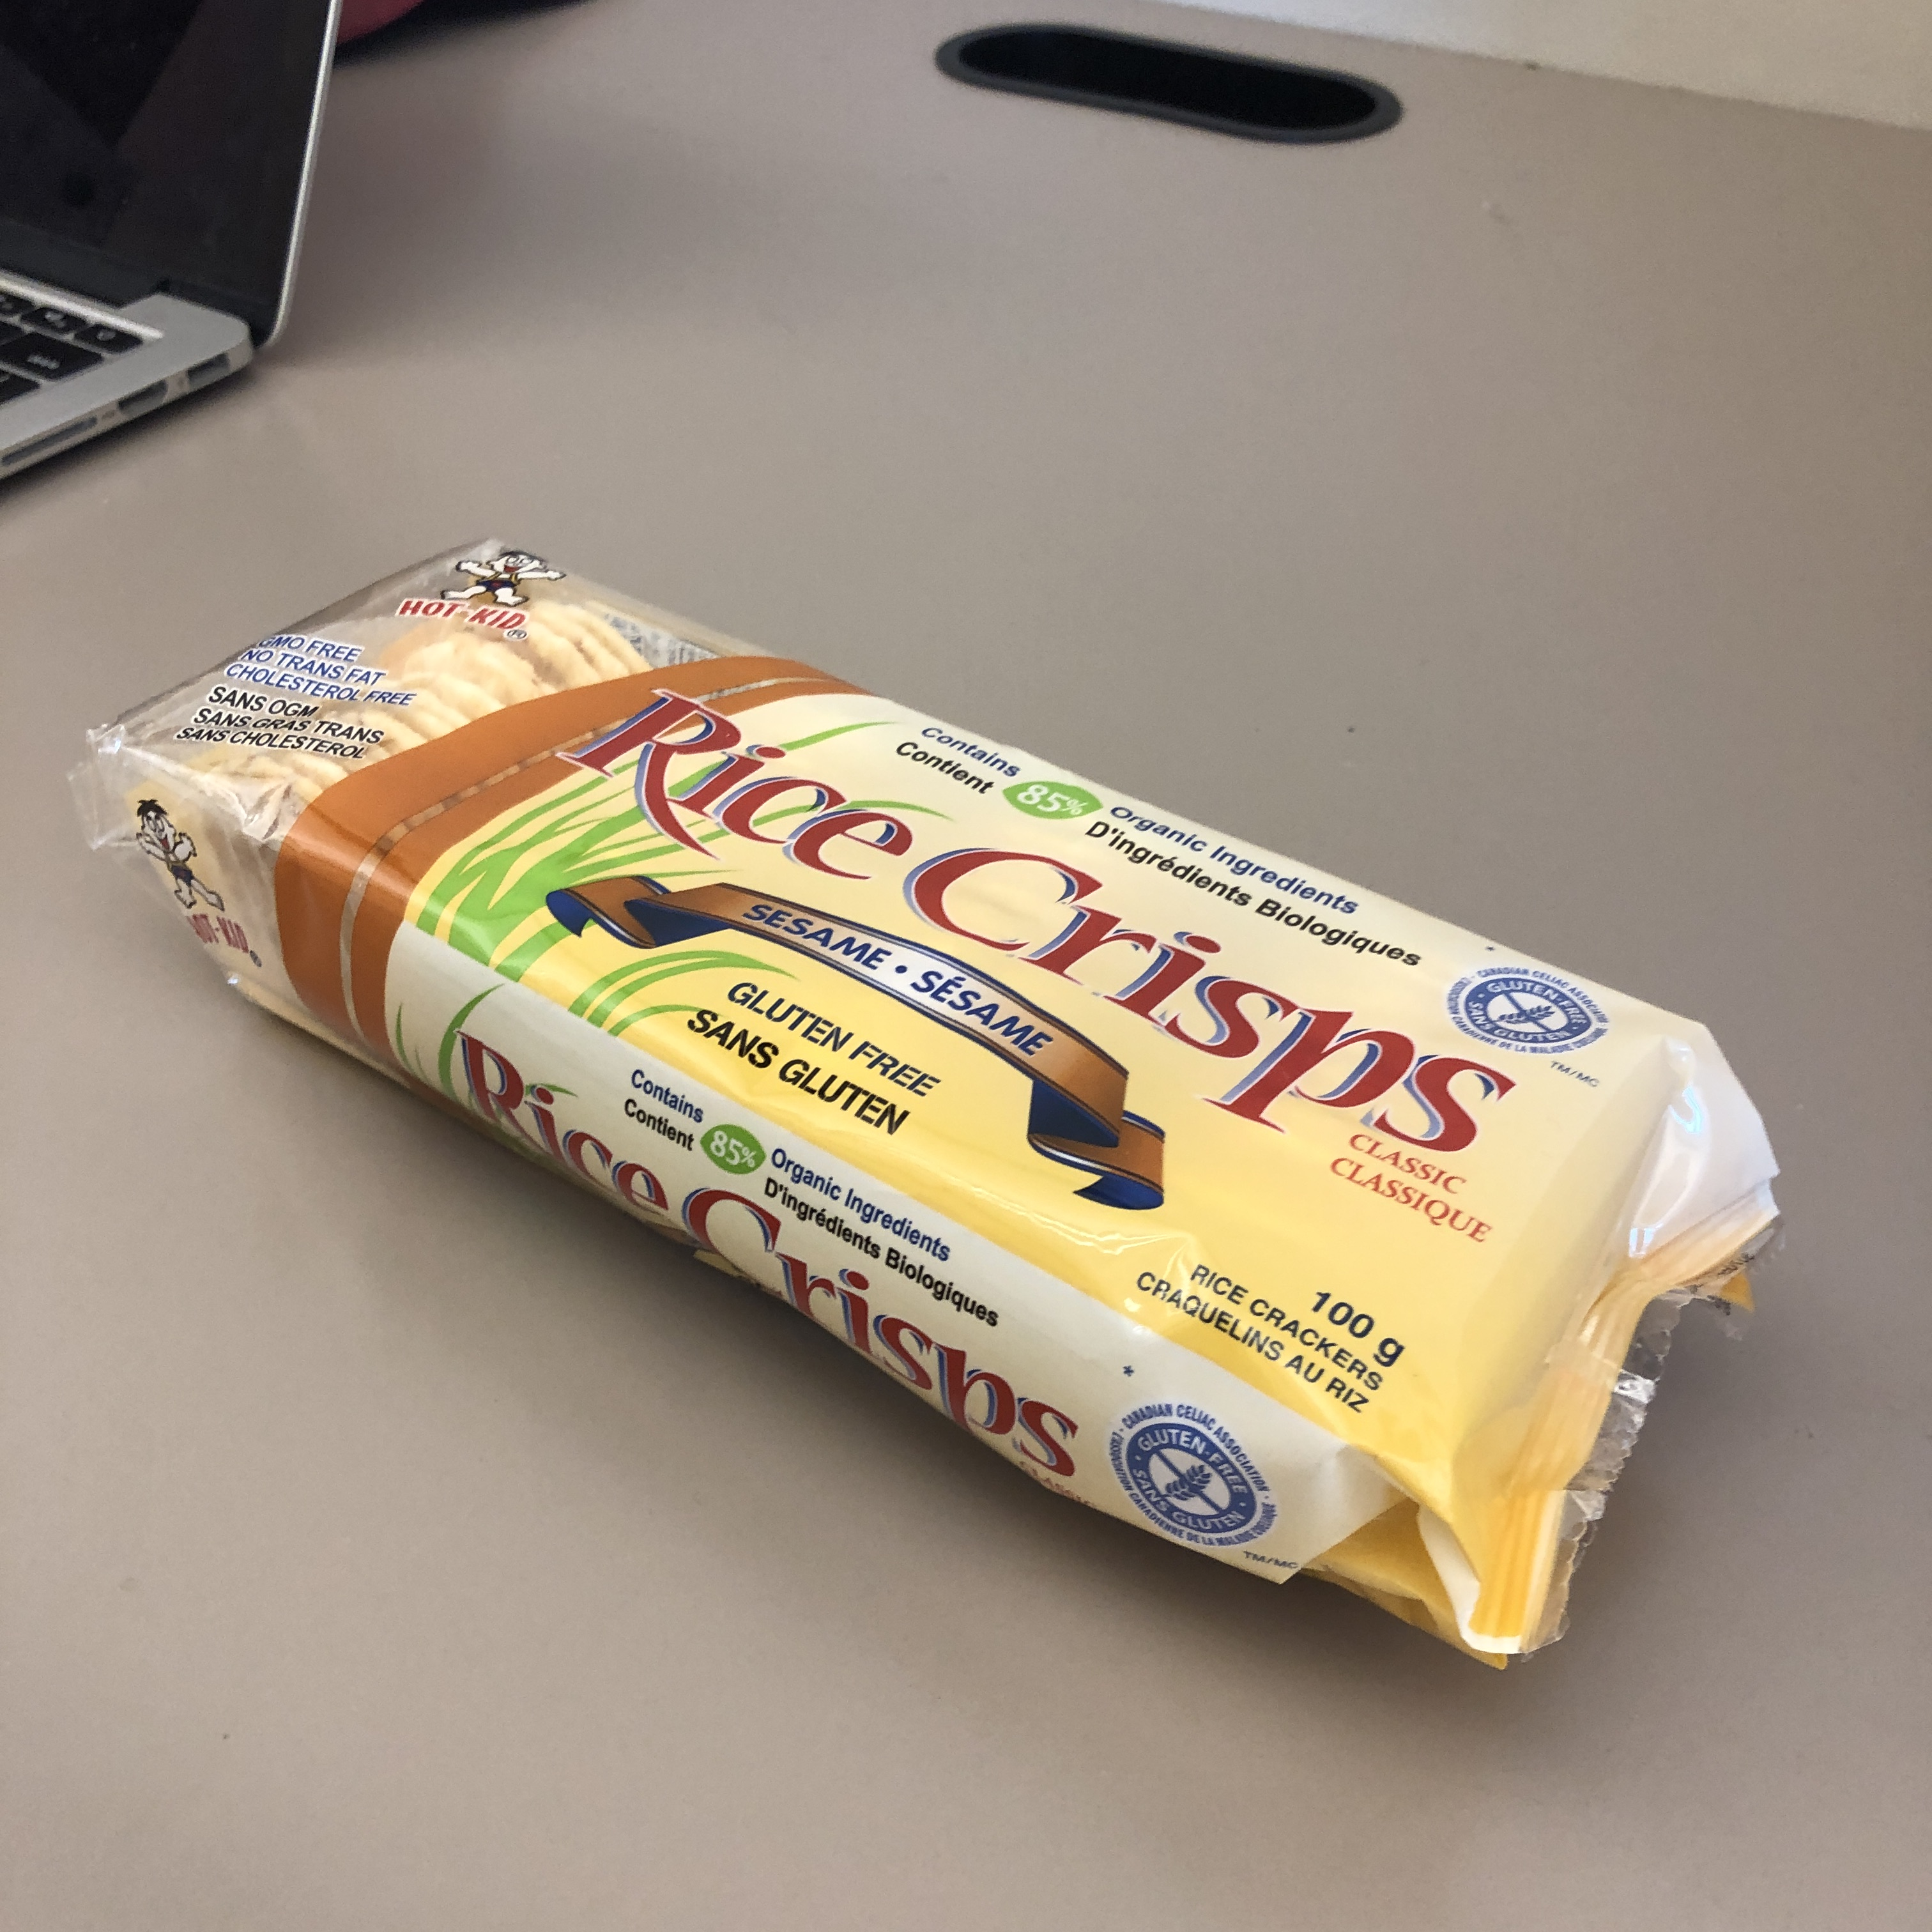hot_kid_rice_crisps_sesame: (571, 283, 1556, 1739)
